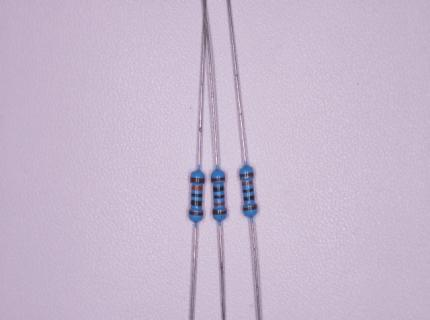Black band: (243, 195, 254, 201), (190, 201, 202, 206), (213, 187, 224, 192), (243, 188, 253, 193), (191, 193, 202, 197), (214, 195, 224, 199)
Brown band: (243, 204, 257, 211), (191, 177, 205, 183), (211, 177, 225, 182), (189, 211, 203, 216), (213, 209, 227, 214), (240, 172, 253, 177)
Orange band: (242, 180, 253, 186), (192, 186, 203, 191), (213, 202, 225, 206)
